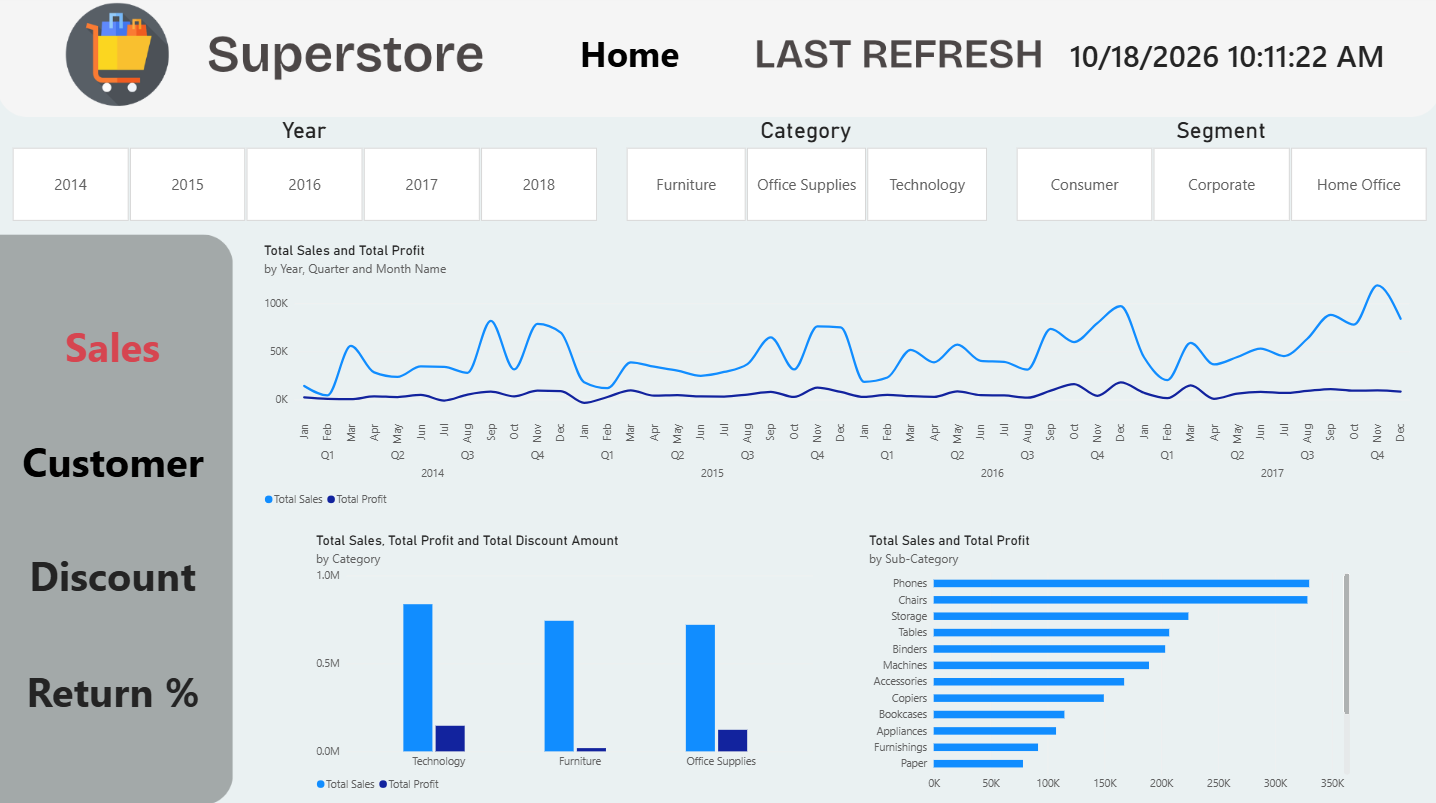

Layout of this report page (visuals, bound fields, positions):
{"tool":"powerbi","page":{"name":"Sales & Profit Analysis","canvas":[1920,1080],"ordinal":1},"visuals":[{"type":"lineChart","fields":{"Y":["All Measures.Total Sales","All Measures.Total Profit"],"Category":["Dim Date.Year","Dim Date.Quarter","Dim Date.Month Name"]},"box":[339.2,315.2,1556.2,385.7],"z":0},{"type":"clusteredColumnChart","fields":{"Category":["Dim Product.Category"],"Y":["All Measures.Total Sales","All Measures.Total Profit"]},"box":[408.3,700.9,693,379.1],"z":1000},{"type":"clusteredBarChart","fields":{"Category":["Dim Product.Sub-Category"],"Y":["All Measures.Total Sales"]},"box":[1143.8,700.9,671.7,379.1],"z":2000},{"type":"slicer","title":"Year","fields":{"Values":["Dim Date.Year"]},"box":[0,162.3,816.7,139.7],"z":3000},{"type":"slicer","title":"Segment","fields":{"Values":["Dim Customer.Segment"]},"box":[1334.8,162.3,585.2,139.7],"z":4000},{"type":"slicer","title":"Category","fields":{"Values":["Dim Product.Category"]},"box":[816.7,162.3,518.7,139.7],"z":5000},{"type":"cardVisual","title":"Return Rate","fields":{"Data":["All Measures.LastRefresh"]},"box":[1352.1,13.3,567.9,130.3],"z":6000},{"type":"actionButton","title":"Sales","box":[75.8,405.7,155.6,122.4],"z":7000},{"type":"actionButton","title":"Sales","box":[30.6,710.2,246.1,123.7],"z":8000},{"type":"actionButton","title":"Sales","box":[21.3,558.6,266,122.4],"z":9000},{"type":"actionButton","title":"Sales","box":[26.6,864.5,255.4,122.4],"z":10000},{"type":"actionButton","title":"Sales","box":[755.5,17.3,171.6,122.4],"z":11000}]}

Visuals, with their boxes in screenshot pixels (x1, y1, x2, y2), scaled from the page's 1920x1080 canvas onto the 1436x803 screenshot:
lineChart - All Measures.Total Sales x All Measures.Total Profit: (x1=254, y1=234, x2=1418, y2=521)
clusteredColumnChart - Dim Product.Category x All Measures.Total Sales: (x1=305, y1=521, x2=824, y2=802)
clusteredBarChart - Dim Product.Sub-Category x All Measures.Total Sales: (x1=855, y1=521, x2=1358, y2=802)
"Year" slicer: (x1=0, y1=121, x2=611, y2=225)
"Segment" slicer: (x1=998, y1=121, x2=1435, y2=225)
"Category" slicer: (x1=611, y1=121, x2=999, y2=225)
"Return Rate" cardVisual: (x1=1011, y1=10, x2=1435, y2=107)
"Sales" actionButton: (x1=57, y1=302, x2=173, y2=393)
"Sales" actionButton: (x1=23, y1=528, x2=207, y2=620)
"Sales" actionButton: (x1=16, y1=415, x2=215, y2=506)
"Sales" actionButton: (x1=20, y1=643, x2=211, y2=734)
"Sales" actionButton: (x1=565, y1=13, x2=693, y2=104)
